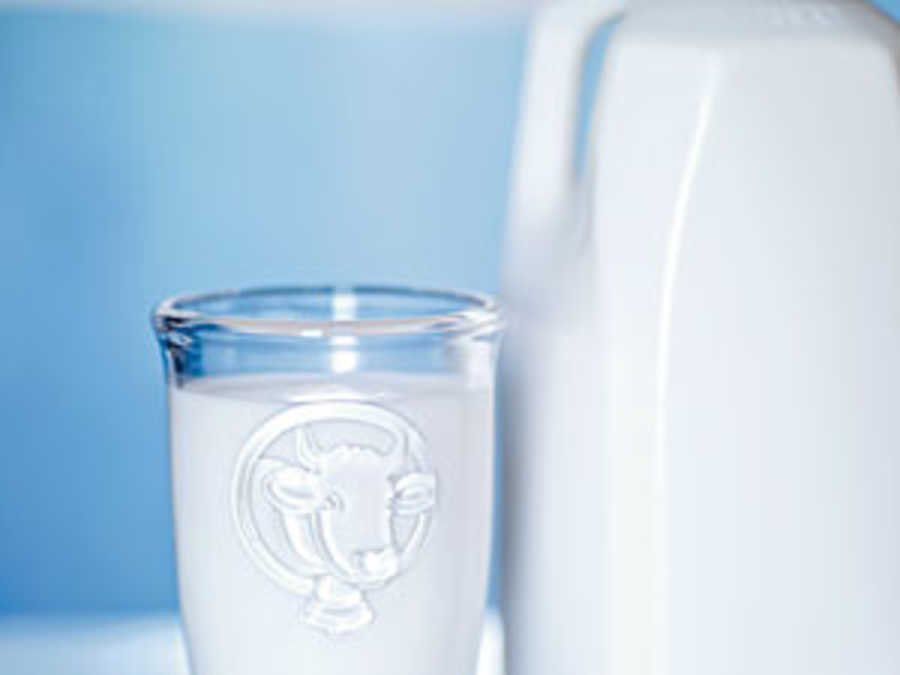glass of milk: (154, 284, 521, 675)
